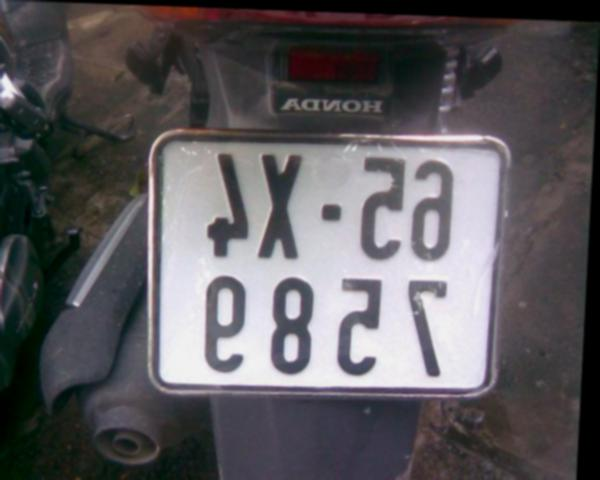License_Plate: (148, 127, 503, 401)
